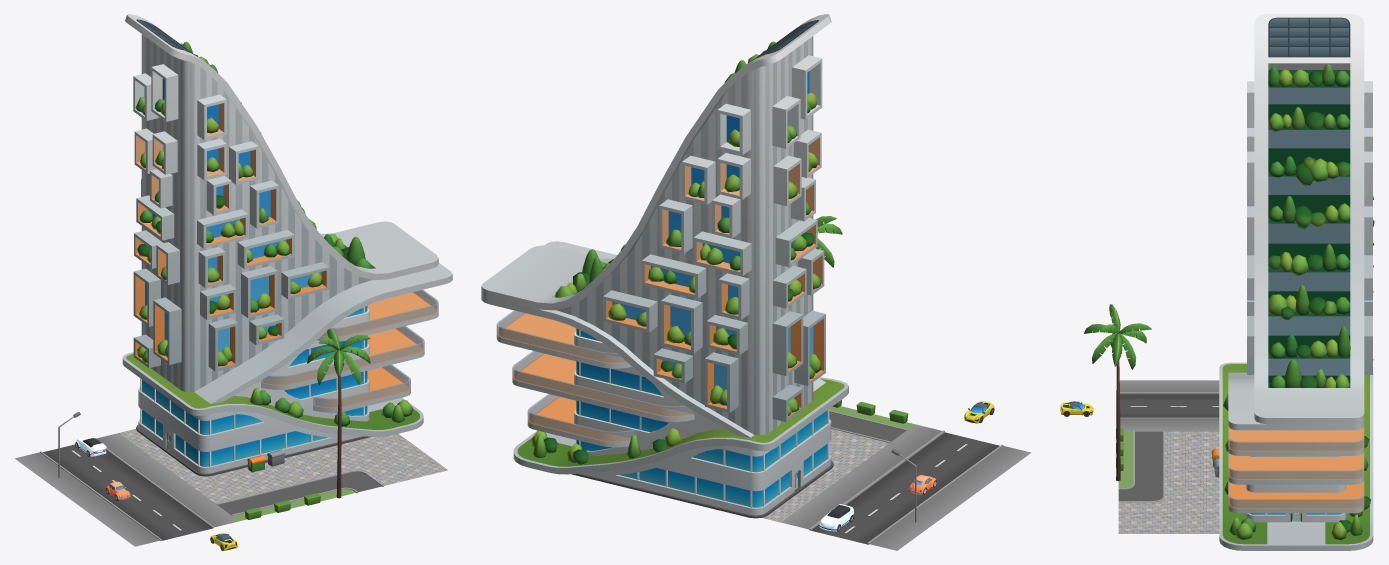
The model's file is north-central-west.gltf.
3 renders of one model, left to right at view 1: azimuth 30°, elevation 25°; view 2: azimuth 150°, elevation 25°; view 3: azimuth 270°, elevation 25°, orthographic. The views are drawn at different scales.
Visible parts, largest first — view 1: Eco_Building_Slope.001, road_009.233, road_009.234, Set_B_Tiles_06.006, Set_B_Tiles_05.012, Palm_03.068, Set_B_Tiles_09.020; view 2: Eco_Building_Slope.001, road_009.233, road_009.234, Set_B_Tiles_05.012, Set_B_Tiles_09.020; view 3: Eco_Building_Slope.001, Set_B_Tiles_06.006, road_009.233, Set_B_Tiles_05.012, Palm_03.068.
Part boxes in pixels (bbox=[...]): Eco_Building_Slope.001: bbox=[122, 14, 452, 476]; road_009.233: bbox=[75, 477, 238, 546]; road_009.234: bbox=[14, 433, 178, 502]; Set_B_Tiles_06.006: bbox=[291, 433, 447, 495]; Set_B_Tiles_05.012: bbox=[179, 457, 343, 521]; Palm_03.068: bbox=[307, 328, 370, 498]; Set_B_Tiles_09.020: bbox=[119, 429, 194, 476]; Eco_Building_Slope.001: bbox=[481, 14, 848, 518]; road_009.233: bbox=[848, 424, 1030, 501]; road_009.234: bbox=[781, 473, 963, 550]; Set_B_Tiles_05.012: bbox=[829, 406, 914, 473]; Set_B_Tiles_09.020: bbox=[762, 469, 847, 522]; Eco_Building_Slope.001: bbox=[1219, 14, 1374, 550]; Set_B_Tiles_06.006: bbox=[1118, 482, 1219, 533]; road_009.233: bbox=[1119, 380, 1219, 431]; Set_B_Tiles_05.012: bbox=[1118, 431, 1219, 482]; Palm_03.068: bbox=[1084, 304, 1151, 481].
Bounding box in the file's own units: 53.96 × 57.49 × 38.89.
12 materials, 10 textured.
